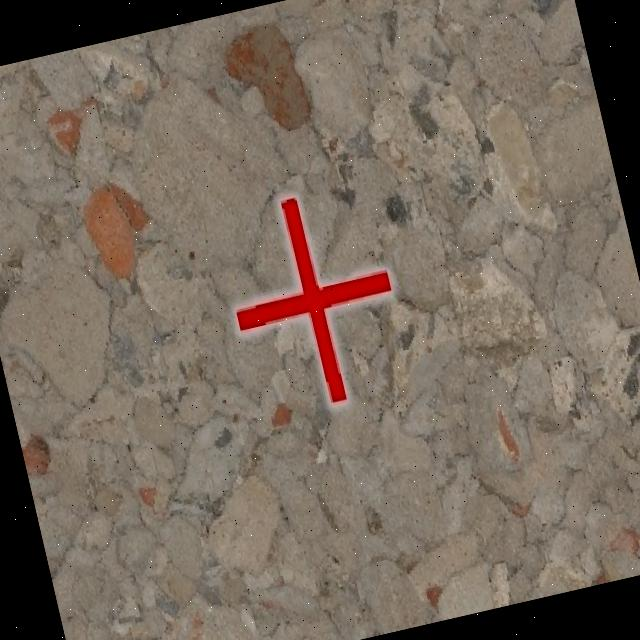x_marker: (212, 180, 412, 420)
